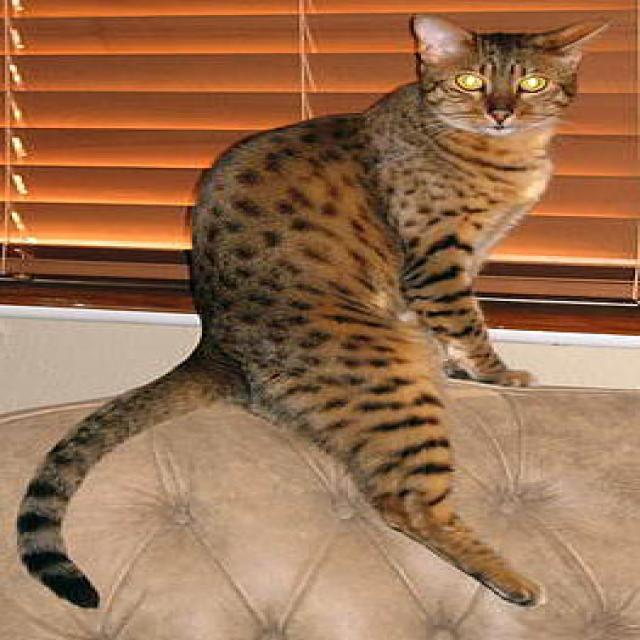Egyptian_Mau: (392, 3, 610, 146)
